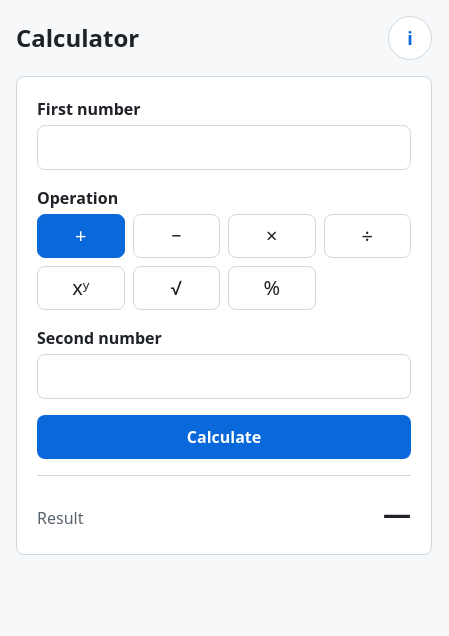
it: Calculator › shows the error message from the API
Type "1" into the field labelled "First number".
click(224, 148); type("1")  # box [37,125,411,170]
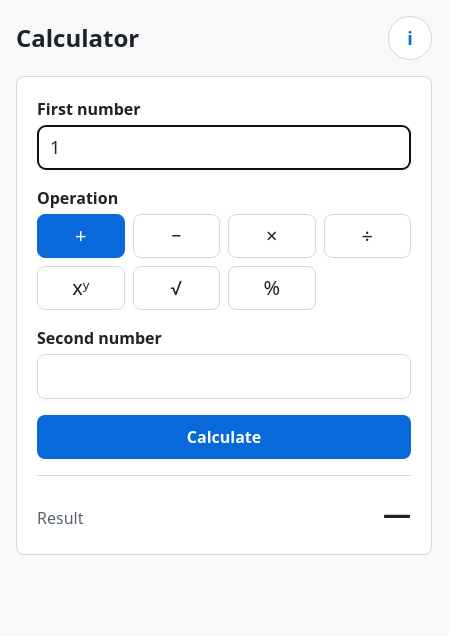
Click the radio button named "Divide".
click(367, 236)  # box [324,214,411,258]
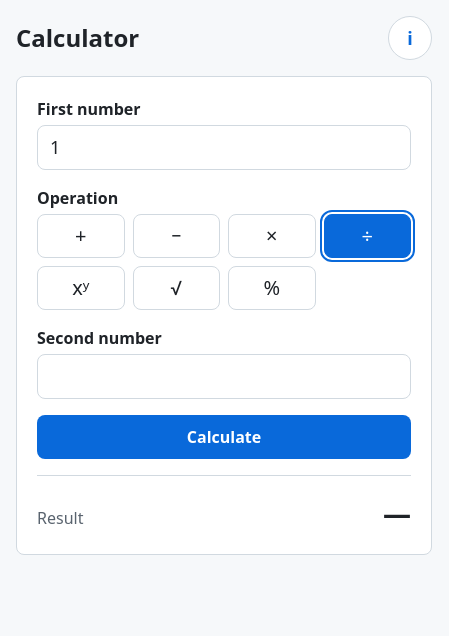
Type "0" into the field labelled "Second number".
click(224, 376); type("0")  # box [37,354,411,399]
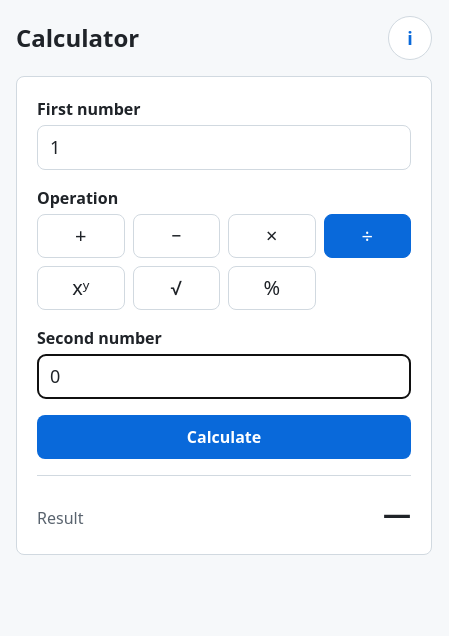
Click the button "Calculate".
click(224, 437)  # box [37,415,411,459]
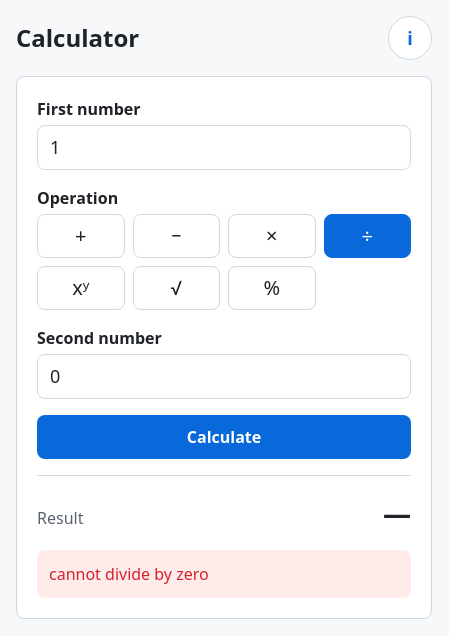
Now the message reads "cannot divide by zero", box [49,563,209,585]
